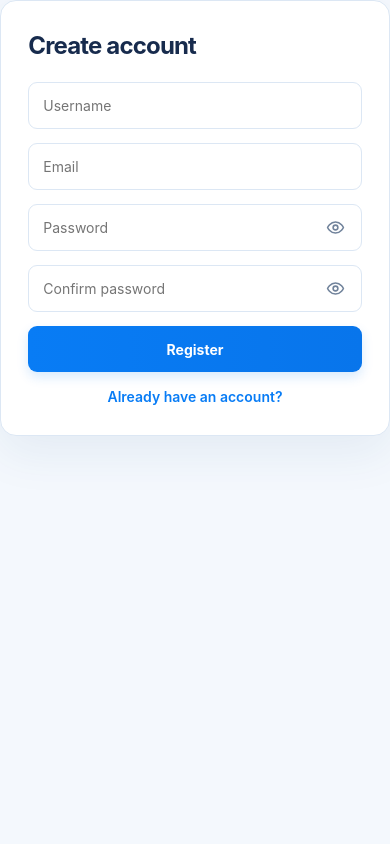
Test: Register › shows username suggestions when signup detects a duplicate
Type "taken" into the field with placeholder "Username" at (195, 106), box [28,82,362,129]
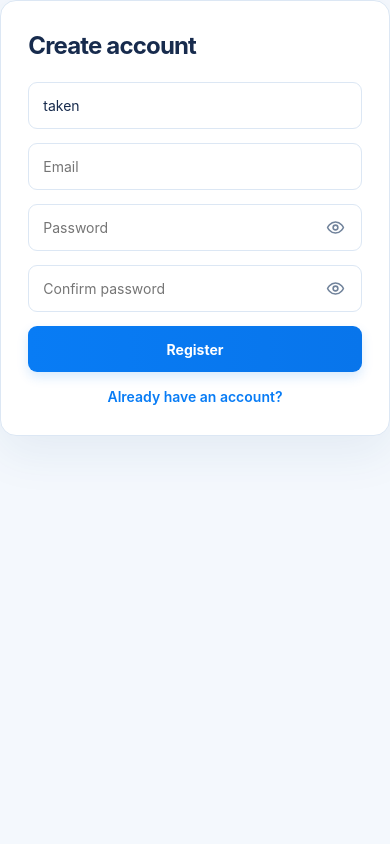
Type "person@example.com" into the field with placeholder "Email" at (195, 167), box [28,143,362,190]
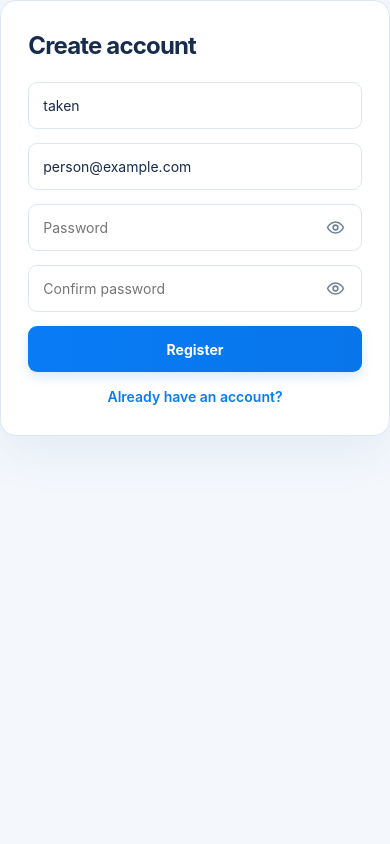
Type "StrongPassword123!" into the password field with placeholder "Password" at (195, 228), box [28,204,362,251]
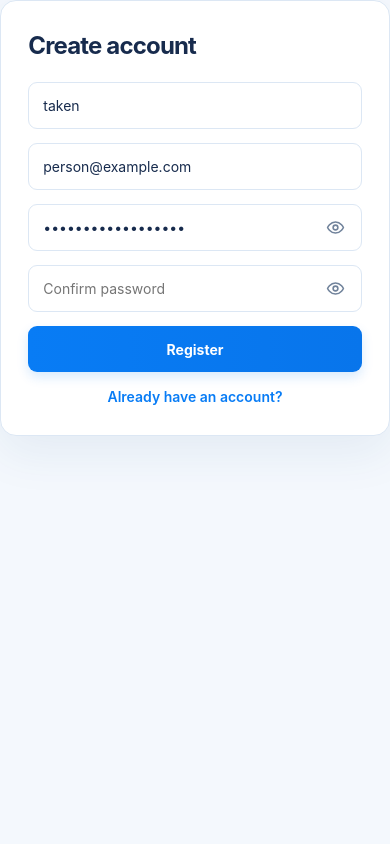
Type "StrongPassword123!" into the password field with placeholder "Confirm password" at (195, 289), box [28,265,362,312]
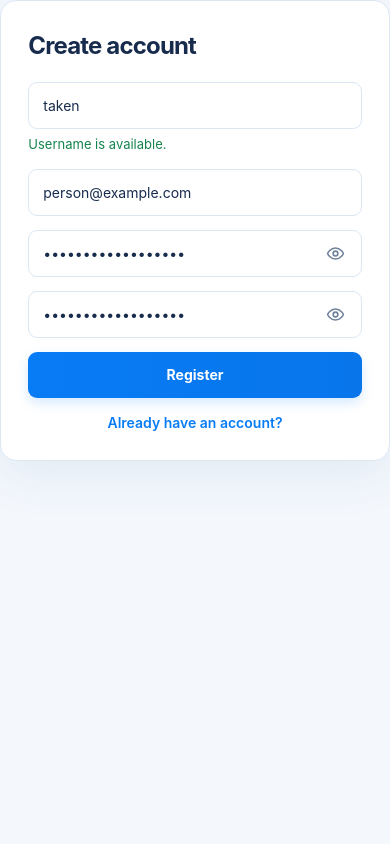
Result: the text "Username is available." is shown at [28,136,166,152]
Click the button "Register" at (195, 375), box [28,352,362,398]
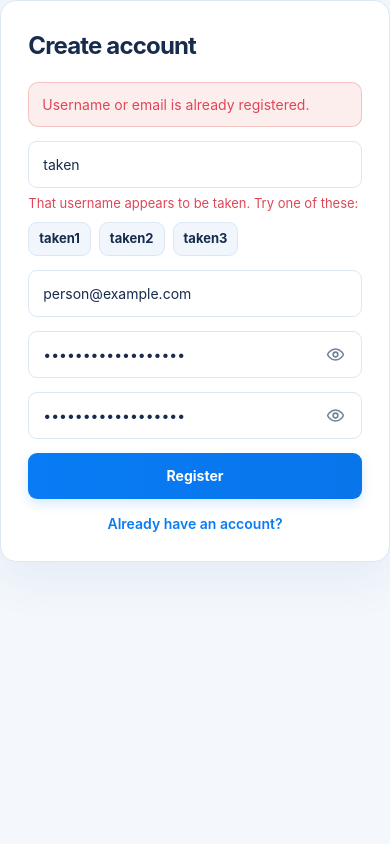
Result: the button "taken1" is shown at [28,222,91,256]
Result: the button "taken2" is shown at [99,222,165,256]
